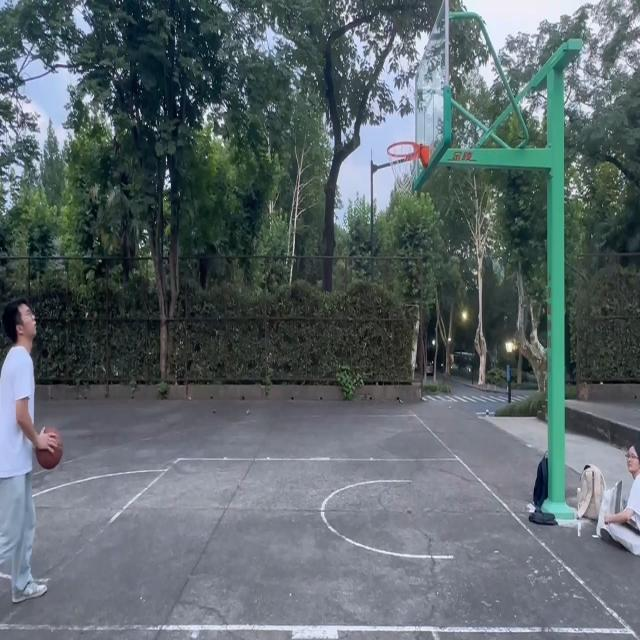basketball: (386, 143, 432, 196)
rim: (36, 427, 62, 469)
